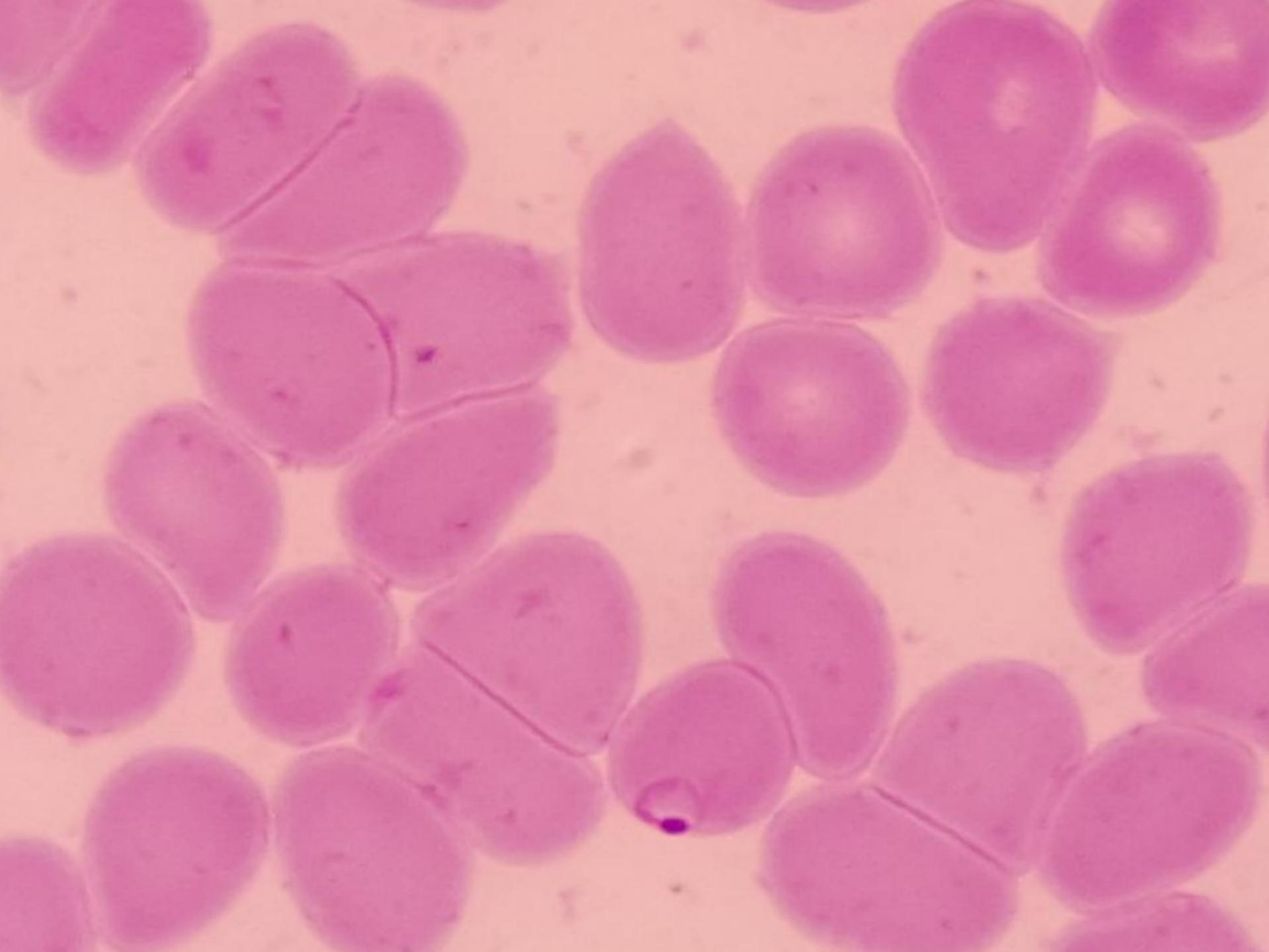Infected: (608, 658, 798, 841)
Uninfected: (370, 644, 609, 870), (404, 536, 636, 758), (205, 68, 464, 262), (892, 0, 1088, 250), (874, 656, 1084, 886), (140, 18, 361, 234), (329, 390, 558, 588), (1034, 724, 1265, 915), (715, 532, 891, 775), (183, 265, 391, 470), (572, 123, 746, 361), (760, 793, 1015, 952), (0, 531, 194, 738), (276, 745, 472, 948), (104, 403, 284, 623), (1024, 120, 1216, 322), (1064, 453, 1250, 658), (349, 240, 568, 411), (744, 129, 940, 315), (88, 742, 267, 945), (20, 0, 208, 179), (922, 298, 1116, 470), (225, 557, 403, 744), (714, 322, 909, 492), (1091, 0, 1269, 146), (1140, 583, 1269, 758)
